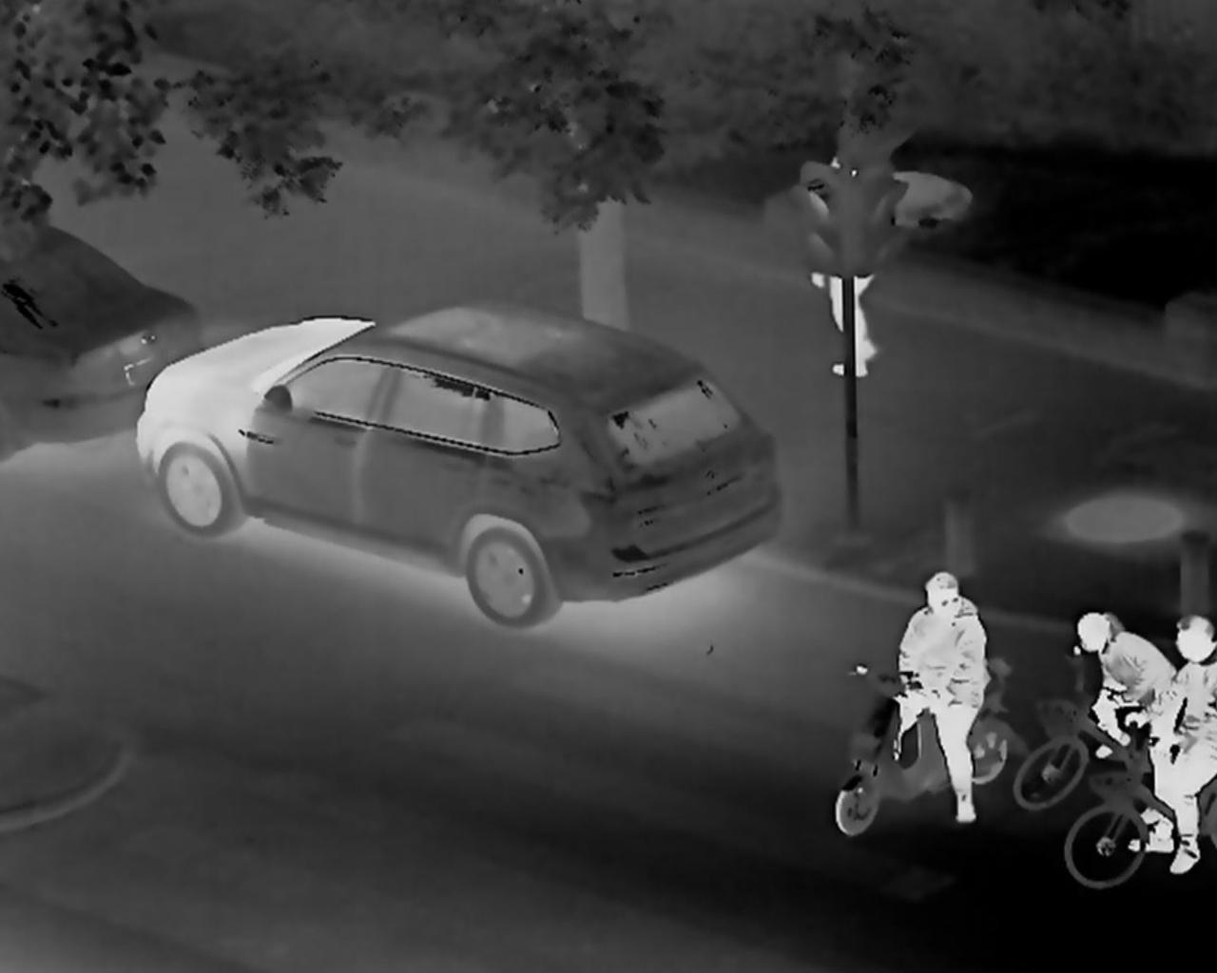person: (888, 564, 986, 833), (1120, 612, 1217, 878), (1072, 604, 1179, 821), (810, 153, 884, 377)
